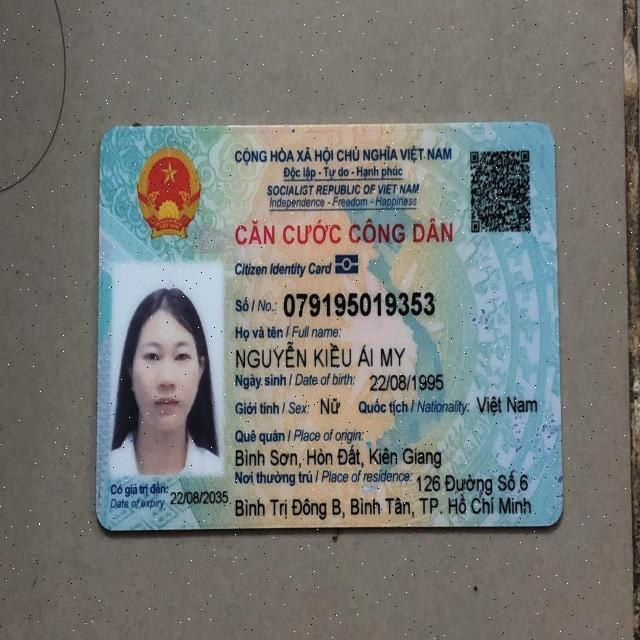current_place: (232, 496, 532, 518), (415, 473, 529, 493)
dob: (367, 369, 449, 394)
expire_date: (169, 486, 232, 508)
gender: (321, 392, 346, 421)
id: (282, 285, 437, 319)
name: (231, 340, 412, 371)
nationality: (473, 389, 540, 419)
origin_place: (235, 447, 444, 470)
